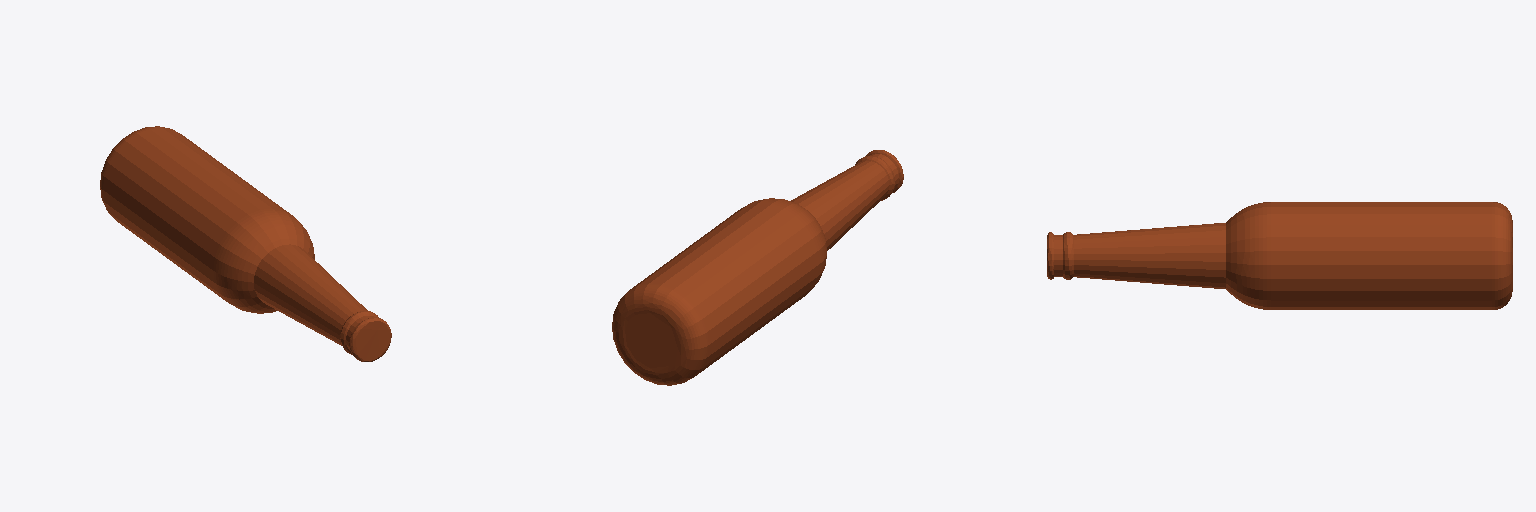
Rendered from model_align.obj.
3 views of the same model, side by side, from view 1: azimuth 30°, elevation 25°; view 2: azimuth 150°, elevation 25°; view 3: azimuth 270°, elevation 25° (orthographic).
Bounding box in the file's own units: 0.0489 × 0.0489 × 0.2094.